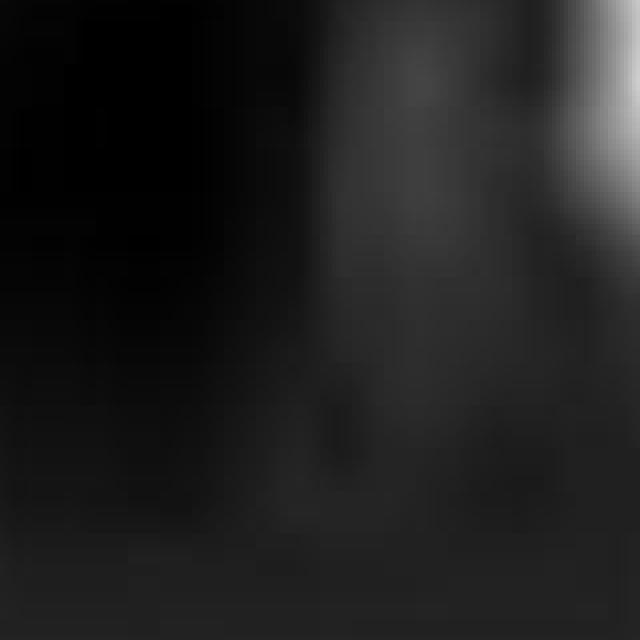person: (553, 1, 640, 342)
